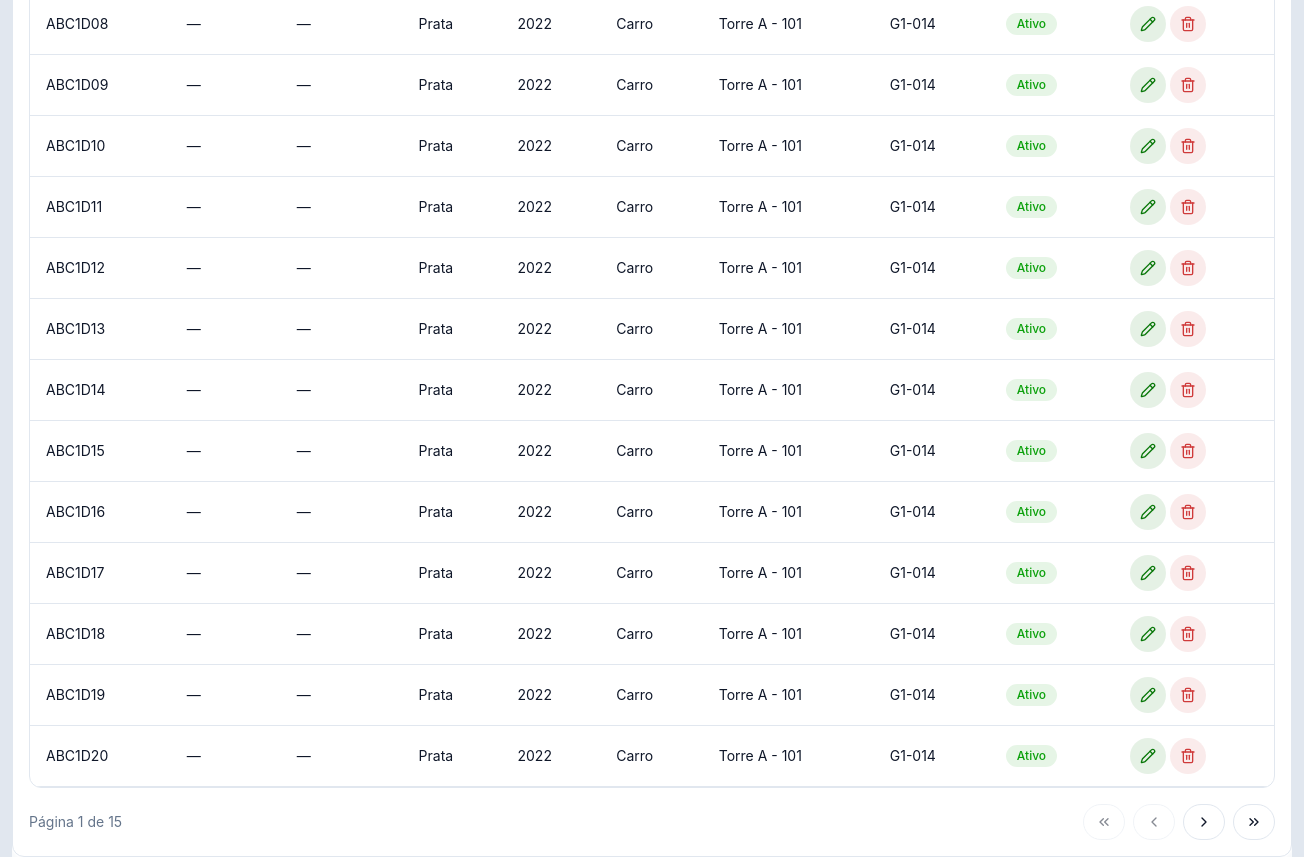
Test: Listagem de veículos › trezentos veículos paginam no tamanho pedido
(page scrolled)
What coordinates should you click on to do the following:
click the button named "Próxima página"
I would click on:
 (1204, 822)
Its box is x1=1183 y1=804 x2=1225 y2=840.
(page scrolled)
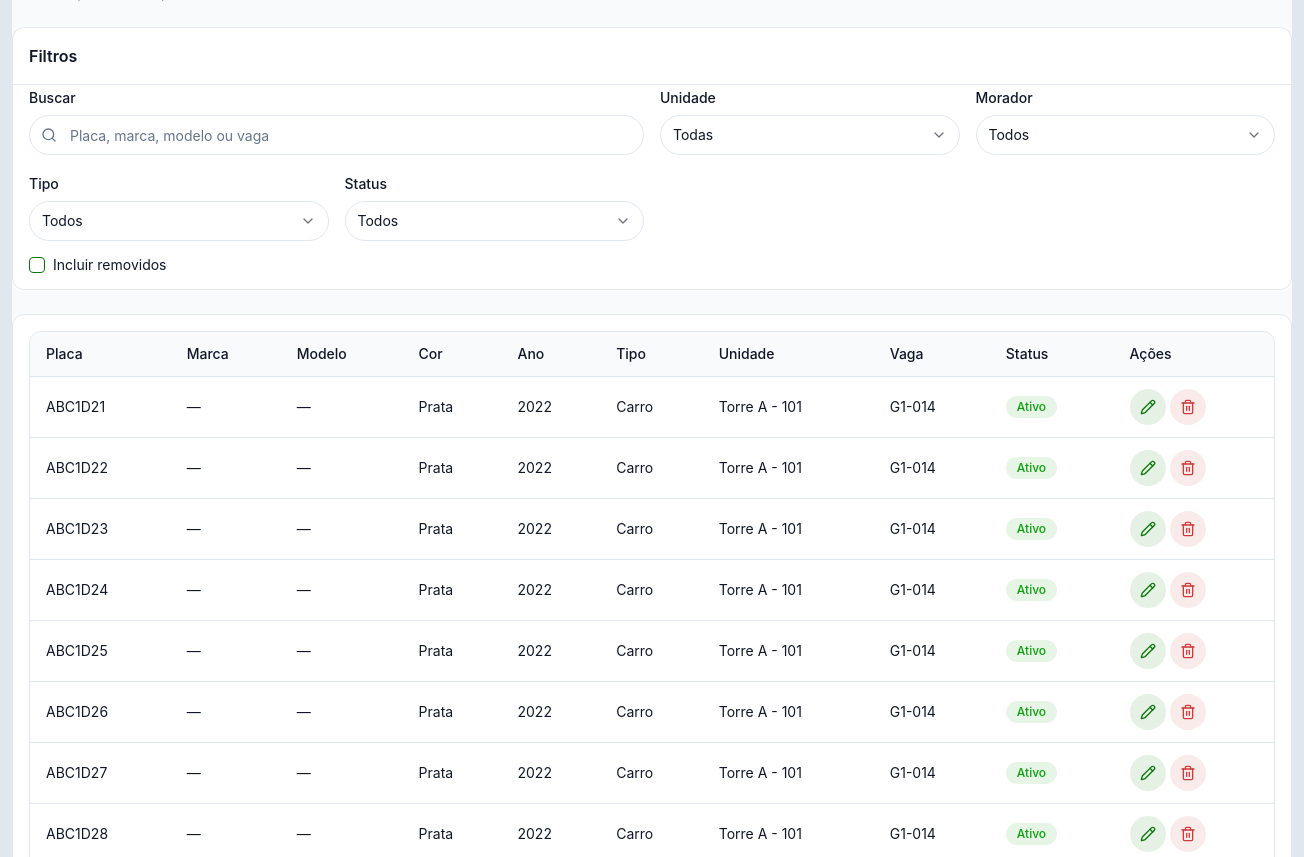
Expected: the text "ABC1D21" is shown, x1=46 y1=397 x2=105 y2=417
